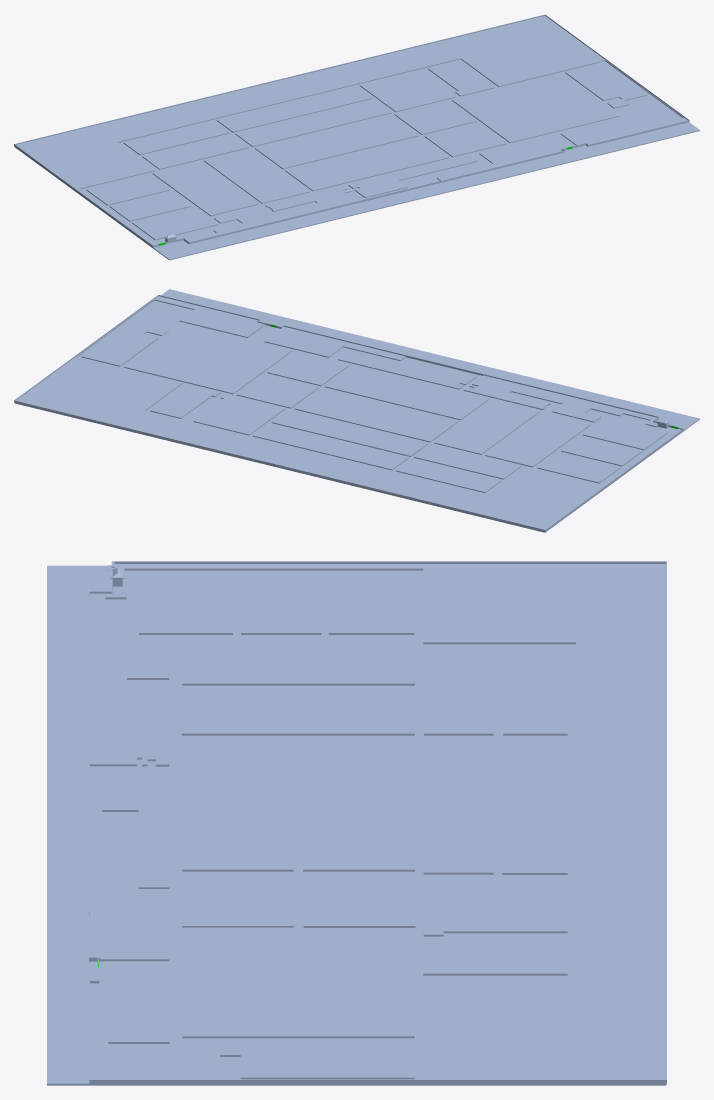
The model's file is VIL.glb.
The picture shows the model from 3 angles, top to bottom: view 1: azimuth 30°, elevation 25°; view 2: azimuth 150°, elevation 25°; view 3: azimuth 270°, elevation 25°; orthographic projection. The views are drawn at different scales.
Parts seen in each view (by area): view 1: Landscaping, Platform, Road, wall; view 2: Landscaping, Platform, Road, wall; view 3: Landscaping, Platform, Road, wall.
Boxes of the visible parts, x1=… form: Landscaping: x1=16, y1=16, x2=687, y2=244; Platform: x1=15, y1=59, x2=682, y2=252; Road: x1=158, y1=122, x2=699, y2=260; wall: x1=14, y1=14, x2=689, y2=248; Landscaping: x1=16, y1=296, x2=681, y2=529; Platform: x1=15, y1=300, x2=689, y2=532; Road: x1=161, y1=289, x2=699, y2=426; wall: x1=14, y1=295, x2=684, y2=531; Landscaping: x1=90, y1=564, x2=666, y2=1079; Platform: x1=90, y1=565, x2=666, y2=1085; Road: x1=47, y1=565, x2=89, y2=1085; wall: x1=89, y1=561, x2=666, y2=1083.
Size of the model in its own units: 574 by 8.2 by 290.
